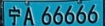A: (24, 7, 34, 26)
